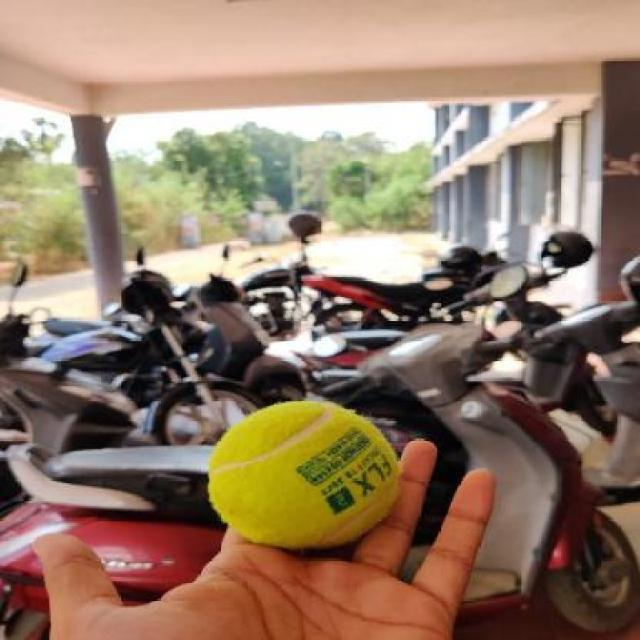-: (188, 389, 409, 553)
